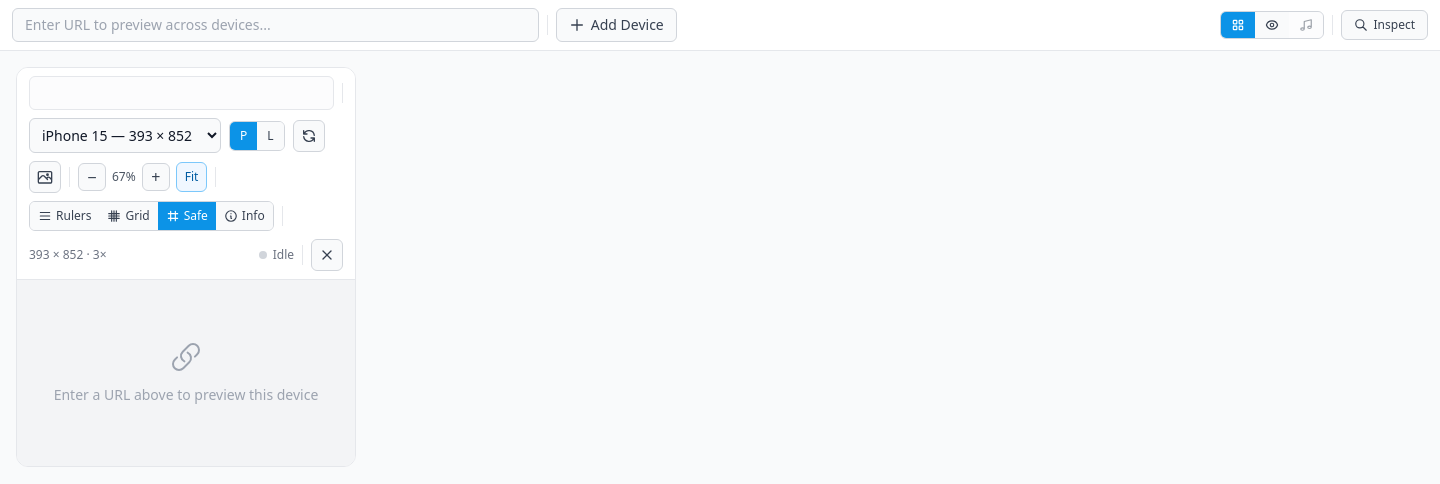
Test: PreviewWorkspace (multi-device) › removing last entry shows empty state
Step 1. Click the button named "Remove preview" → (327, 255), box [311, 239, 343, 271]
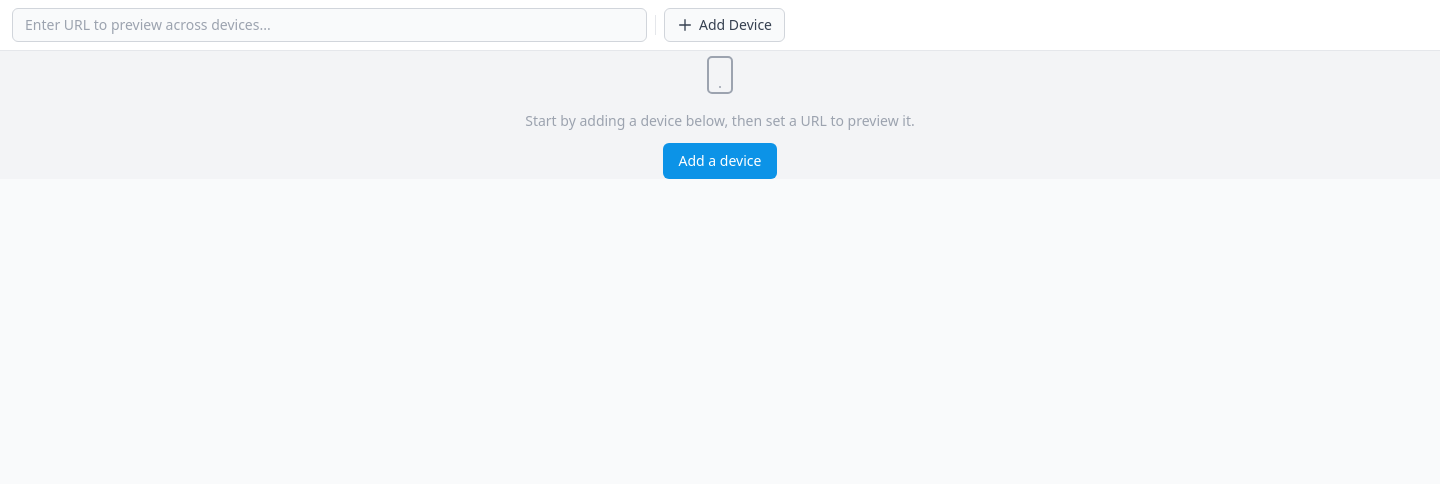
Check: the text "Start by adding a device below, then set a URL to preview it." is shown, box [525, 111, 915, 131]
